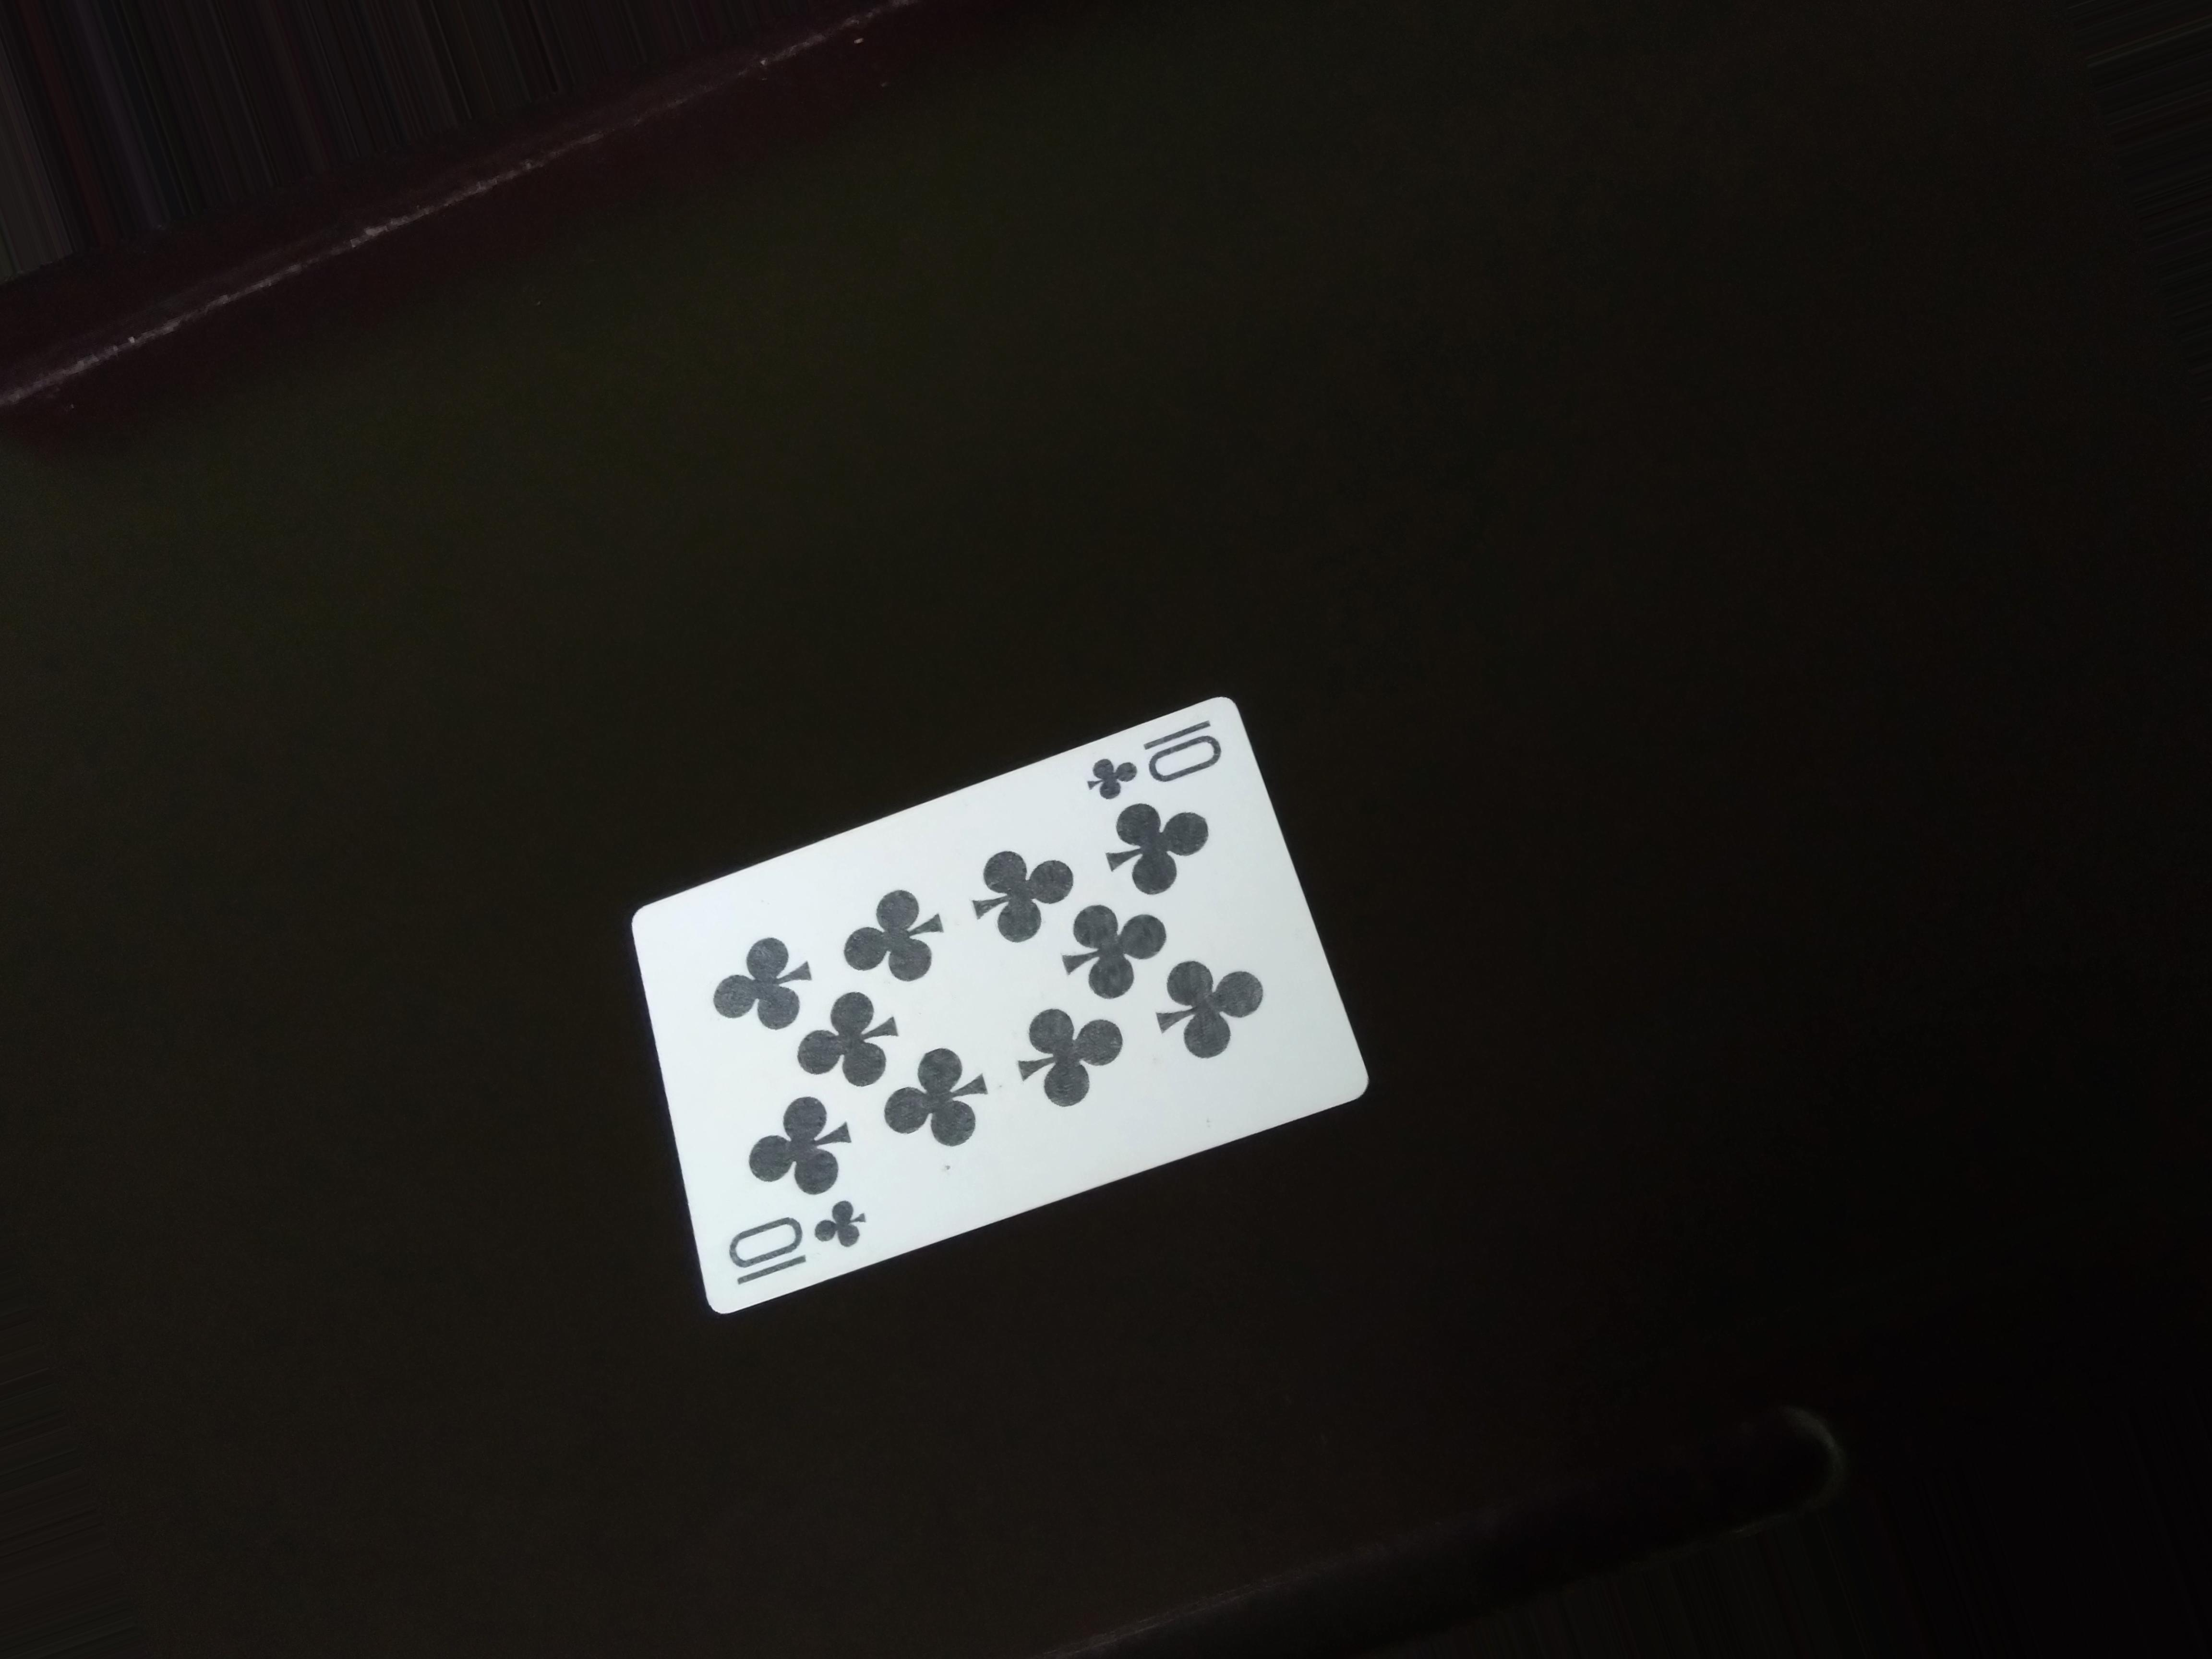10C: (1073, 709, 1231, 809)
